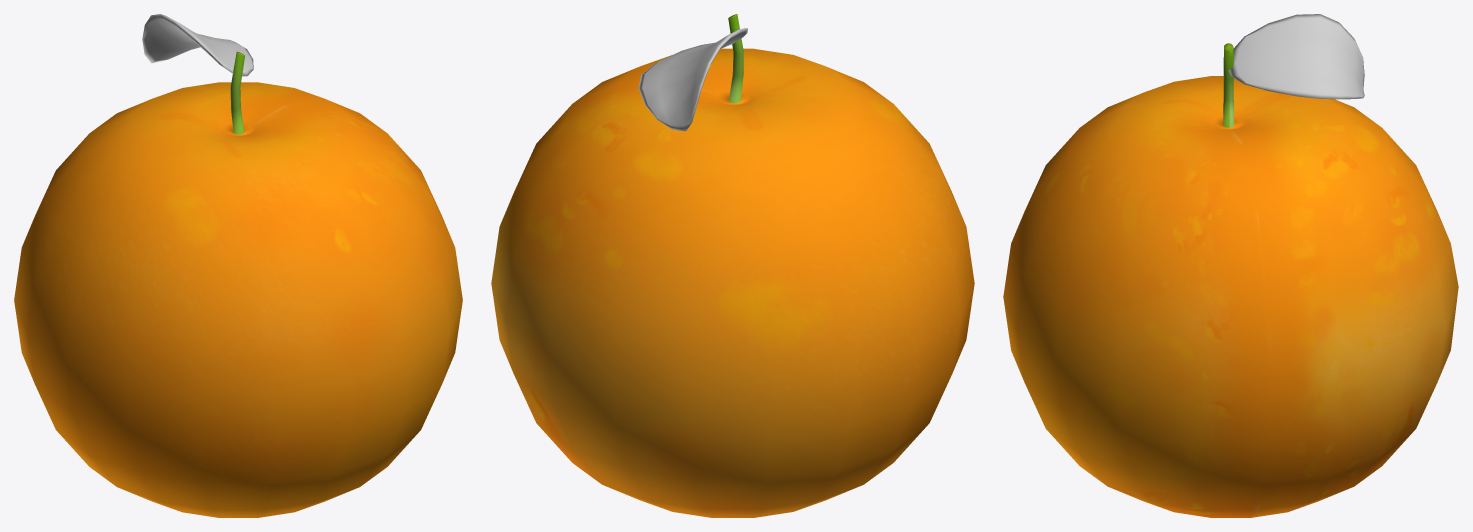
Rendered from Orenge.fbx.
The picture shows the model from 3 angles, left to right: view 1: azimuth 30°, elevation 25°; view 2: azimuth 150°, elevation 25°; view 3: azimuth 270°, elevation 25°; orthographic projection. The views are drawn at different scales.
Visible parts, largest first — view 1: orenge; view 2: orenge; view 3: orenge.
Part boxes in pixels (left/top/right/bottom): orenge: left=14, top=14, right=462, bottom=517; orenge: left=491, top=14, right=974, bottom=517; orenge: left=1003, top=14, right=1458, bottom=517.
Bounding box in the file's own units: 197 × 218 × 200.
